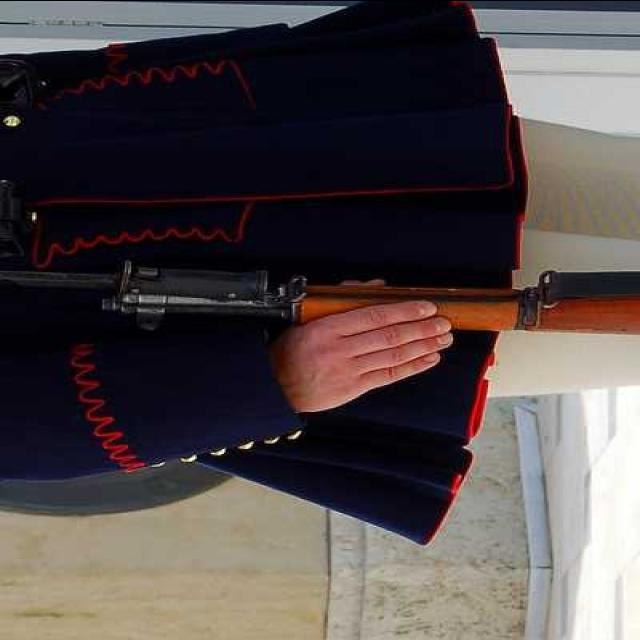heavyweapon: (97, 243, 640, 339)
